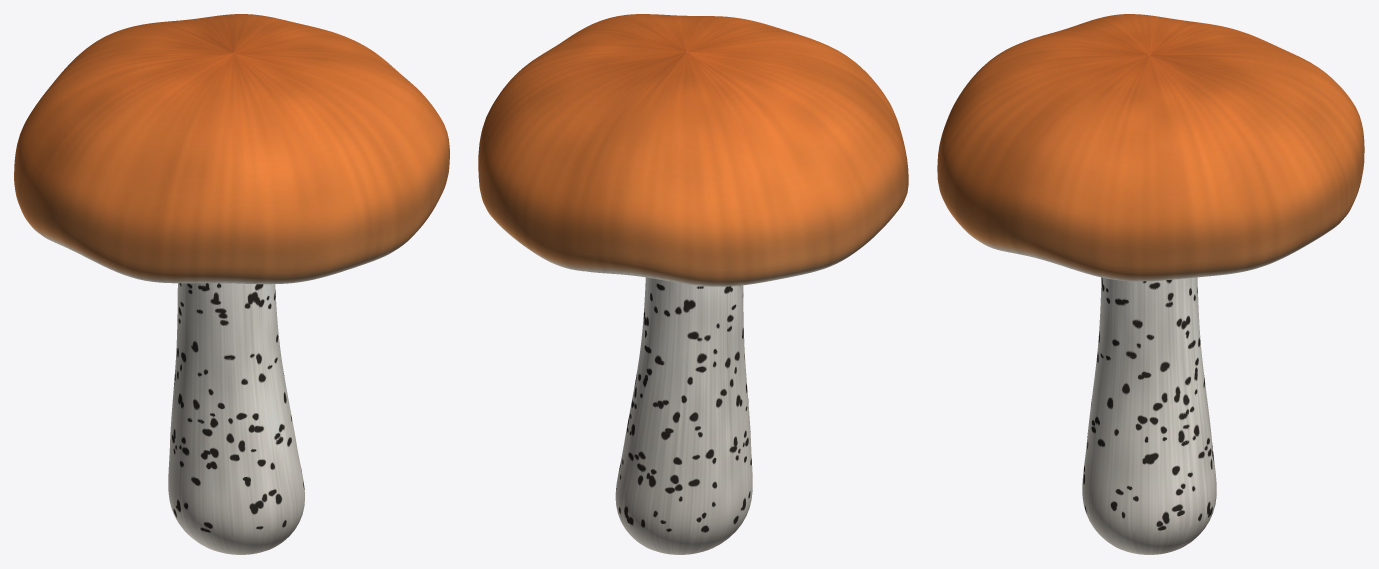
File: leccinum-versipelle-agg-drawn.glb
The picture shows the model from 3 angles, left to right: view 1: azimuth 30°, elevation 25°; view 2: azimuth 150°, elevation 25°; view 3: azimuth 270°, elevation 25°; orthographic projection.
Bounding box in the file's own units: 0.7458 × 0.9325 × 0.7461.
Materials: 1 (1 with a texture image).
